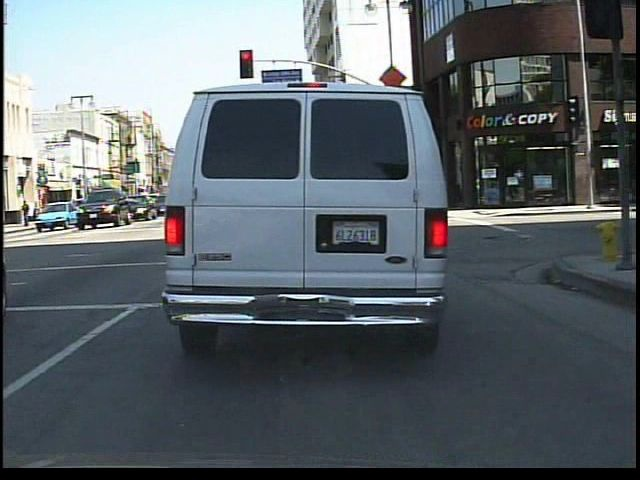person: (21, 198, 33, 229)
